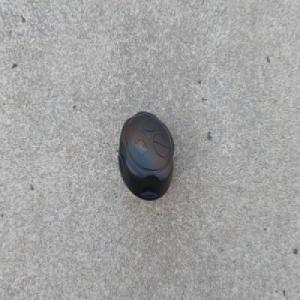FuelCap: (116, 107, 177, 204)
